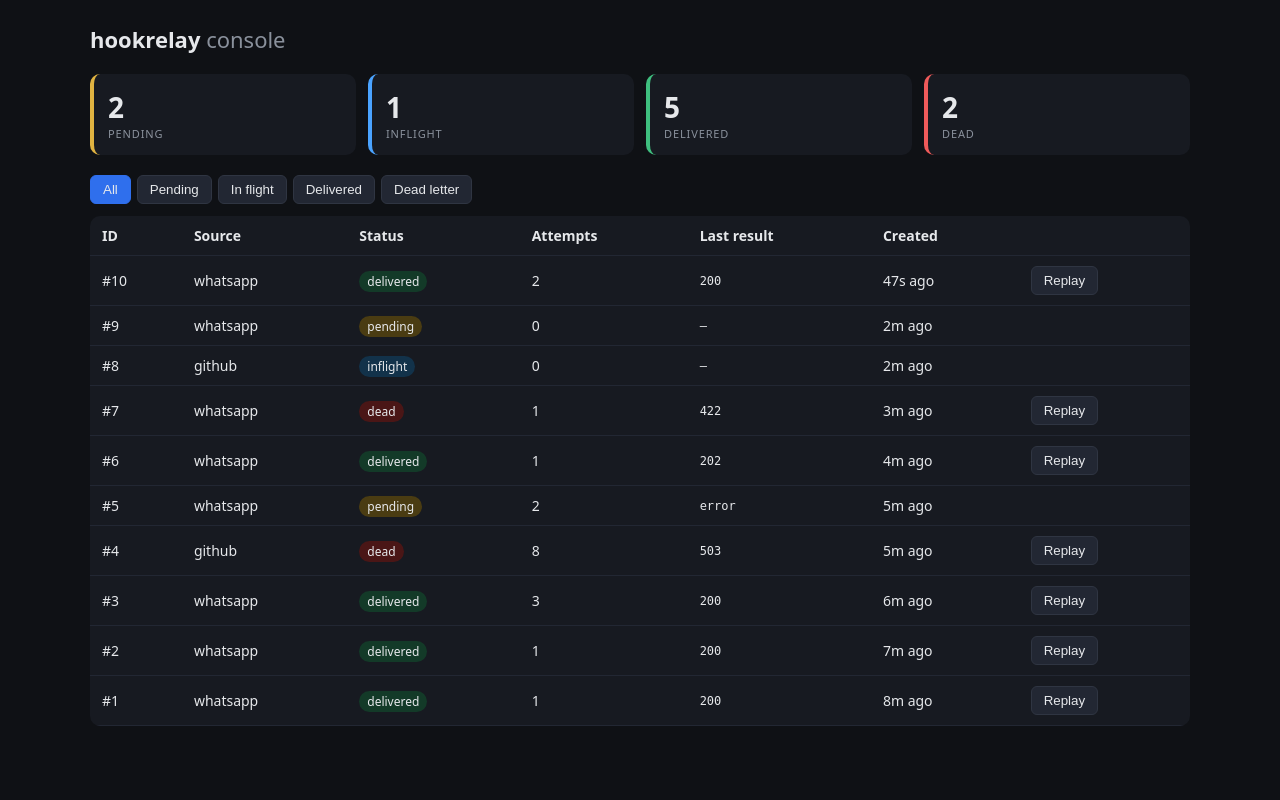
Test: App › filters the DLQ, replays an event and updates counts
The image size is (1280, 800).
Click the tab "Dead letter" at (427, 190), box [381,175,472,204]
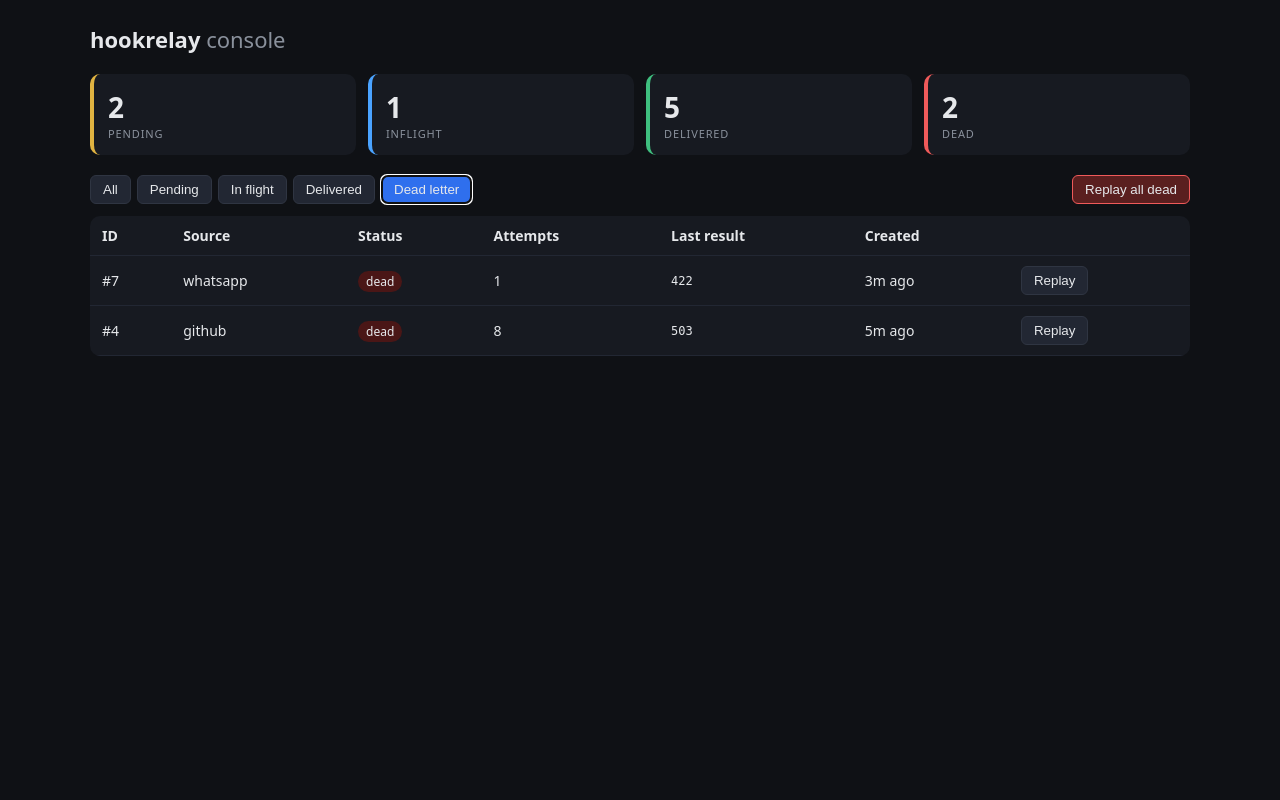
Check: the number of rows is 3, box [90,216,1190,256]; [90,256,1190,306]; [90,306,1190,356]
Click the button with aria-label "replay 4" at (1055, 330), box [1021,316,1088,345]
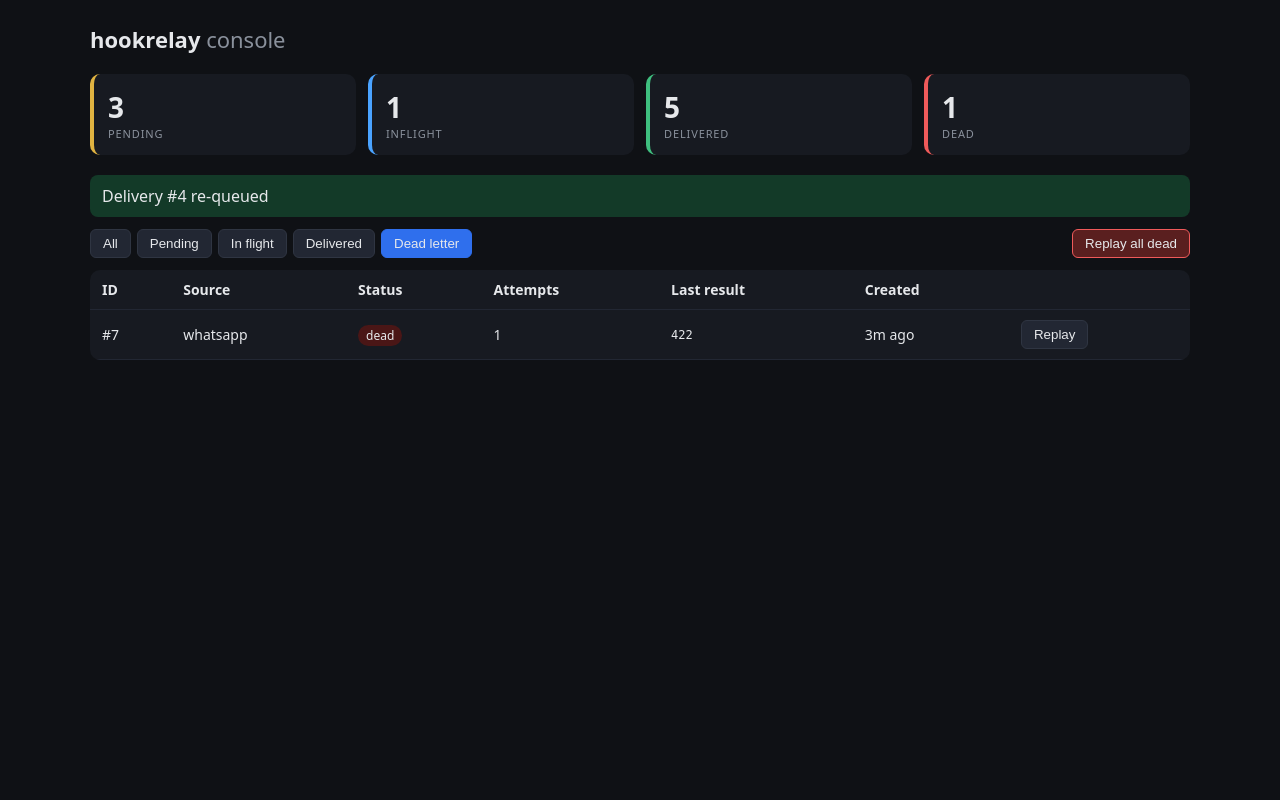
Check: the message reads "Delivery #4 re-queued", box [102,185,269,207]
Check: the element with test id "stat-dead" shows "1", box [942,88,958,126]
Check: the element with test id "stat-pending" shows "3", box [108,88,124,126]
